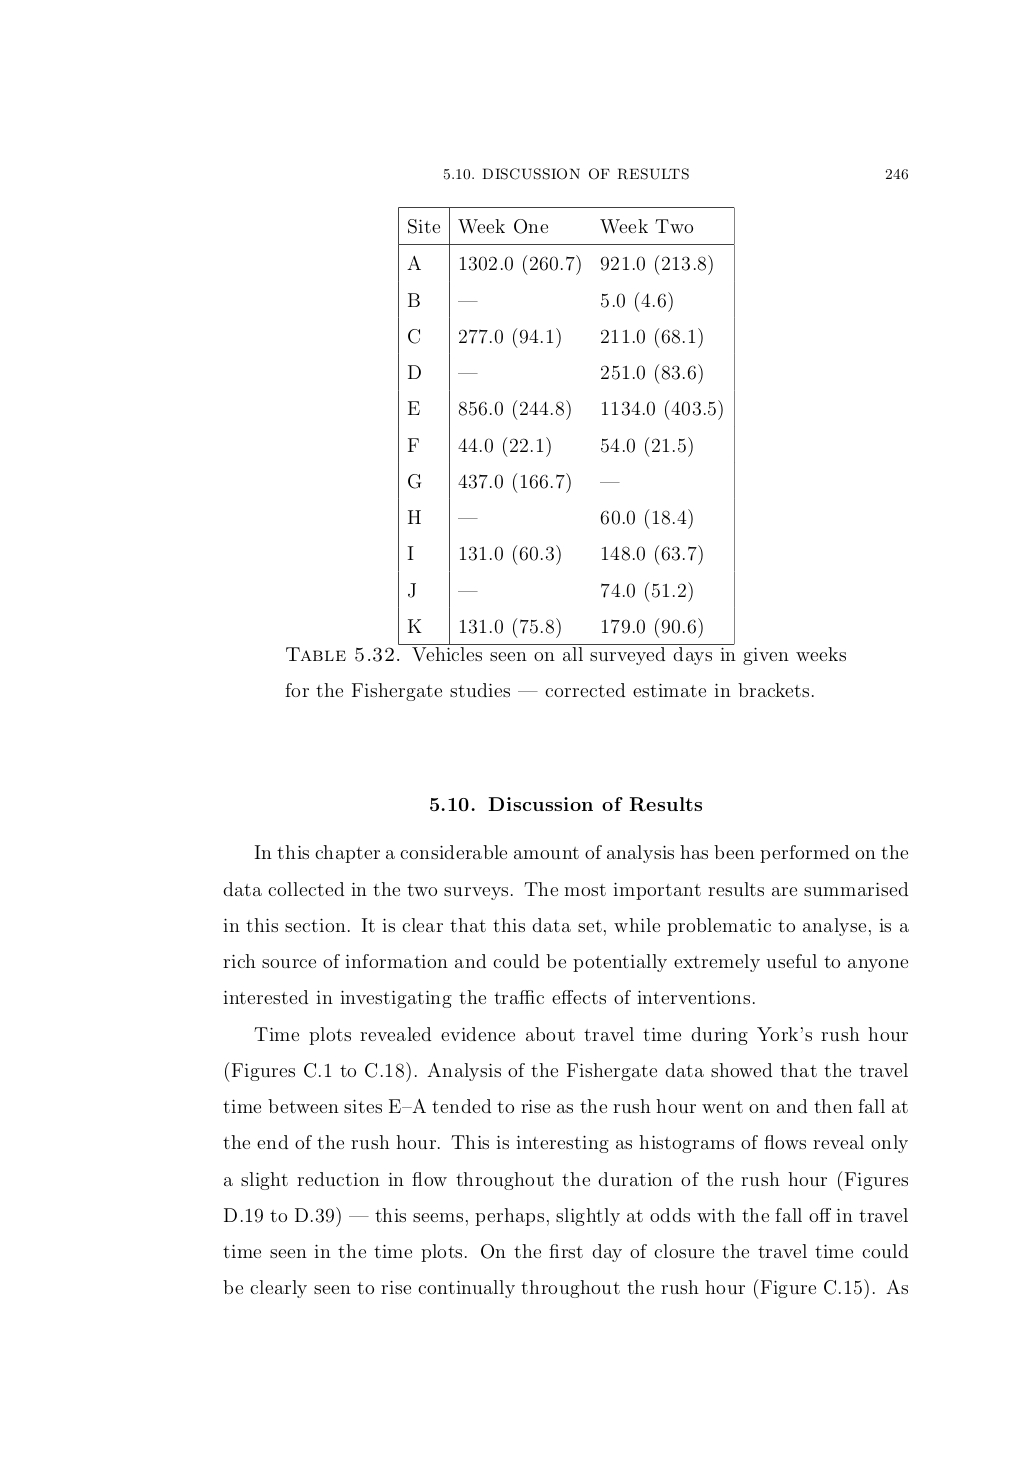Table: (398, 207, 734, 644)
